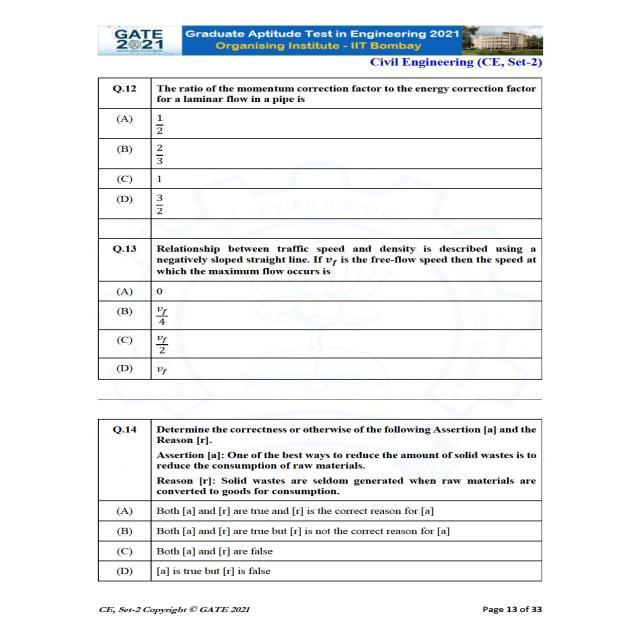Answer_Block: (98, 108, 544, 220), (99, 278, 546, 378), (100, 505, 544, 585)
Question_Answer_Block: (100, 421, 542, 584), (96, 238, 544, 378), (98, 80, 544, 220)
Question_Block: (98, 420, 542, 502), (98, 238, 542, 282), (96, 80, 546, 108)
Question_Paper_Area: (96, 79, 548, 582)
